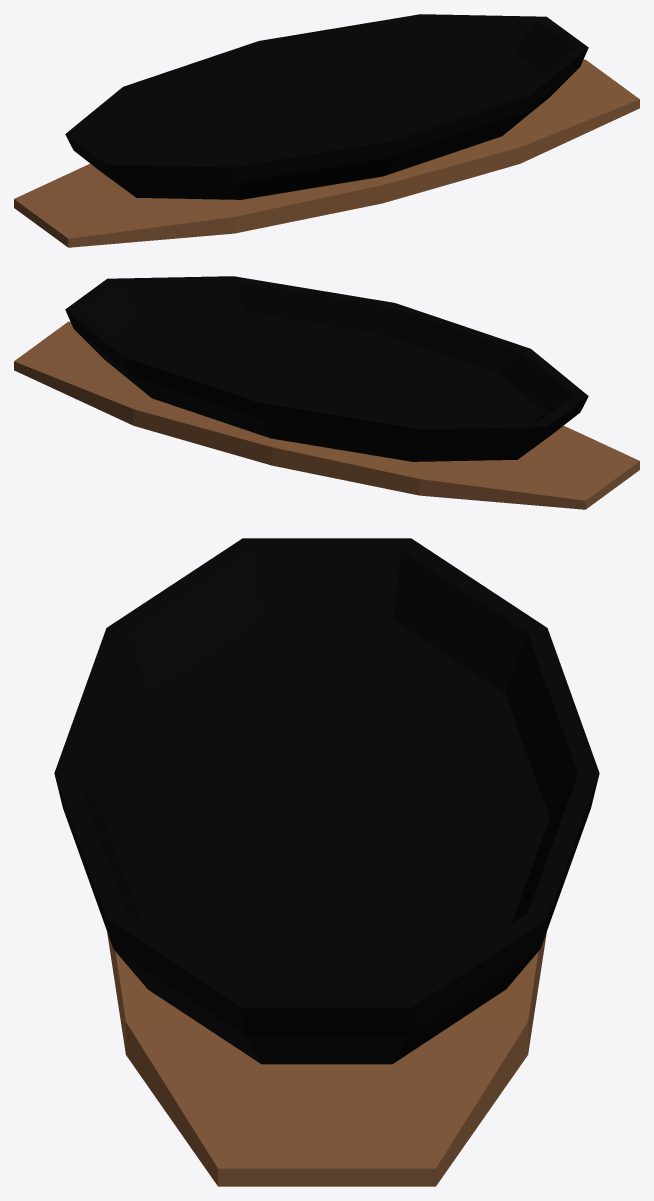
The model's file is hot plate.fbx.
The picture shows the model from 3 angles, top to bottom: view 1: azimuth 30°, elevation 25°; view 2: azimuth 150°, elevation 25°; view 3: azimuth 270°, elevation 25°; orthographic projection. The views are drawn at different scales.
Visible parts, largest first — view 1: Pork Sisig.001; view 2: Pork Sisig.001; view 3: Pork Sisig.001.
Boxes of the visible parts, left/top/right/bottom form: Pork Sisig.001: left=14, top=14, right=639, bottom=247; Pork Sisig.001: left=14, top=276, right=639, bottom=509; Pork Sisig.001: left=54, top=538, right=599, bottom=1186.
Bounding box in the file's own units: 215 × 25.9 × 88.92.
